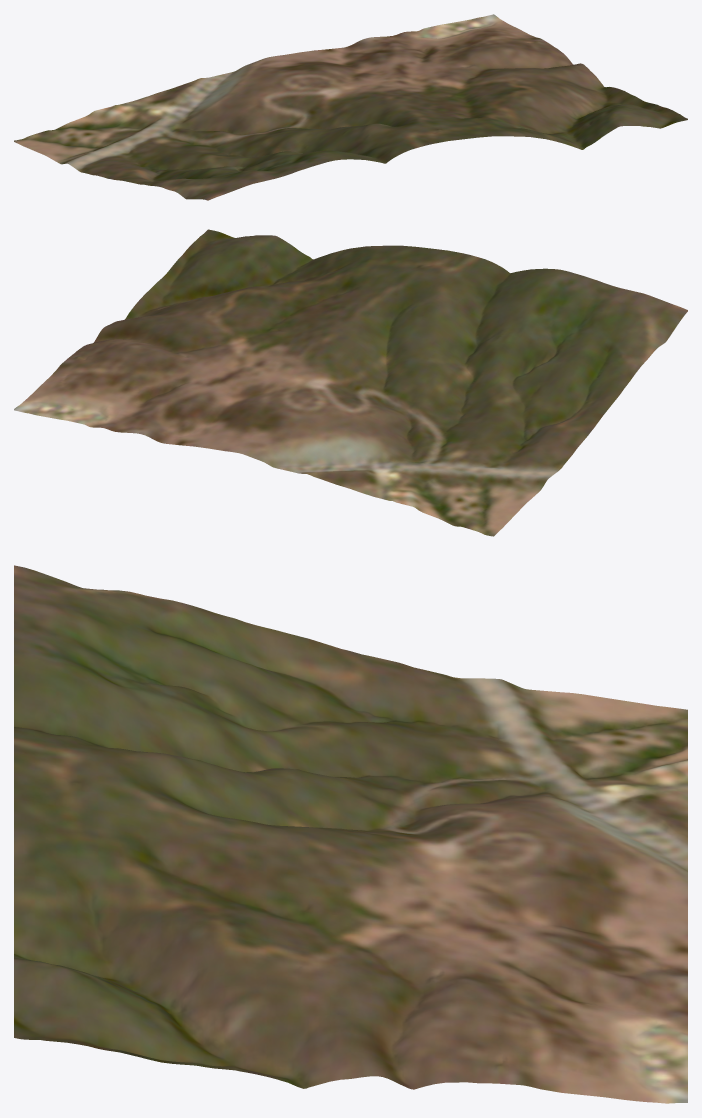
The model's file is terrain_r7_c4.glb.
3 views of the same model, one above another, from view 1: azimuth 30°, elevation 25°; view 2: azimuth 150°, elevation 25°; view 3: azimuth 270°, elevation 25° (orthographic). The views are drawn at different scales.
Visible parts, largest first — view 1: terrain_r7_c4_lod0; view 2: terrain_r7_c4_lod0; view 3: terrain_r7_c4_lod0.
Boxes of the visible parts, bbox=[...] form: terrain_r7_c4_lod0: bbox=[14, 14, 687, 200]; terrain_r7_c4_lod0: bbox=[14, 229, 687, 536]; terrain_r7_c4_lod0: bbox=[14, 565, 687, 1103].
Size of the model in its own units: 1125 by 212 by 787.
1 material, 1 textured.
